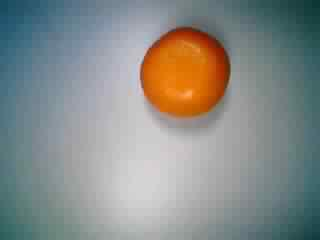orange: (137, 24, 232, 122)
